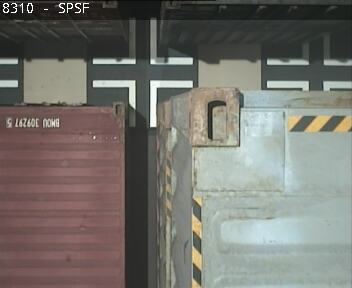groundmarker_1: (92, 18, 194, 64), (92, 81, 194, 126), (267, 31, 351, 64)
